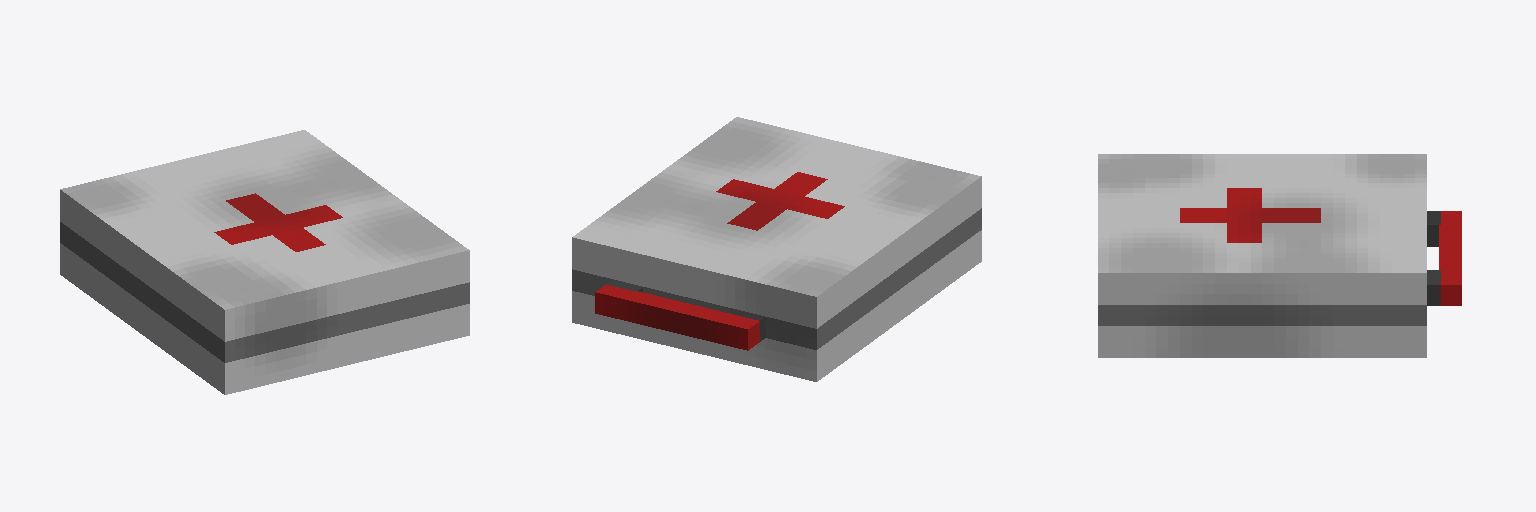
3 views of the same model, side by side, from view 1: azimuth 30°, elevation 25°; view 2: azimuth 150°, elevation 25°; view 3: azimuth 270°, elevation 25° (orthographic).
Visible parts, largest first — view 1: cube; view 2: cube; view 3: cube.
Part boxes in pixels (x1,y1,x2,y2): cube: (60, 130, 469, 394); cube: (572, 117, 981, 381); cube: (1098, 154, 1461, 357).
Size of the model in its own units: 0.375 by 0.125 by 0.4844.
Materials: 1 (1 with a texture image).